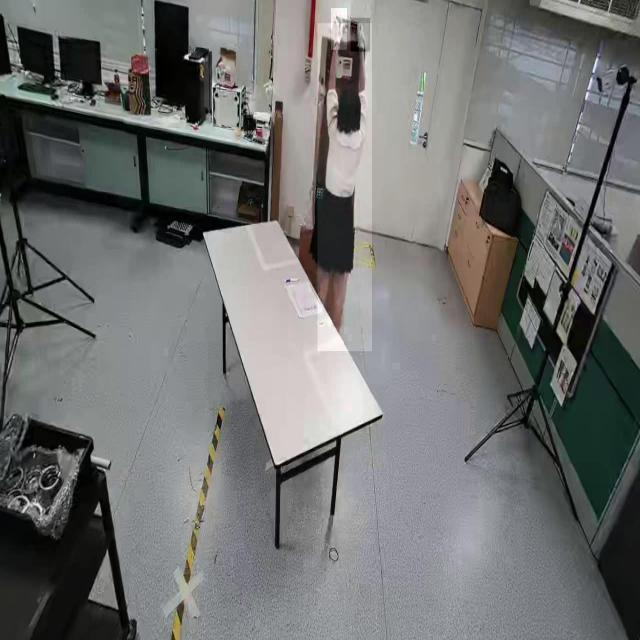gloves: (330, 8, 348, 51), (350, 18, 370, 52)
